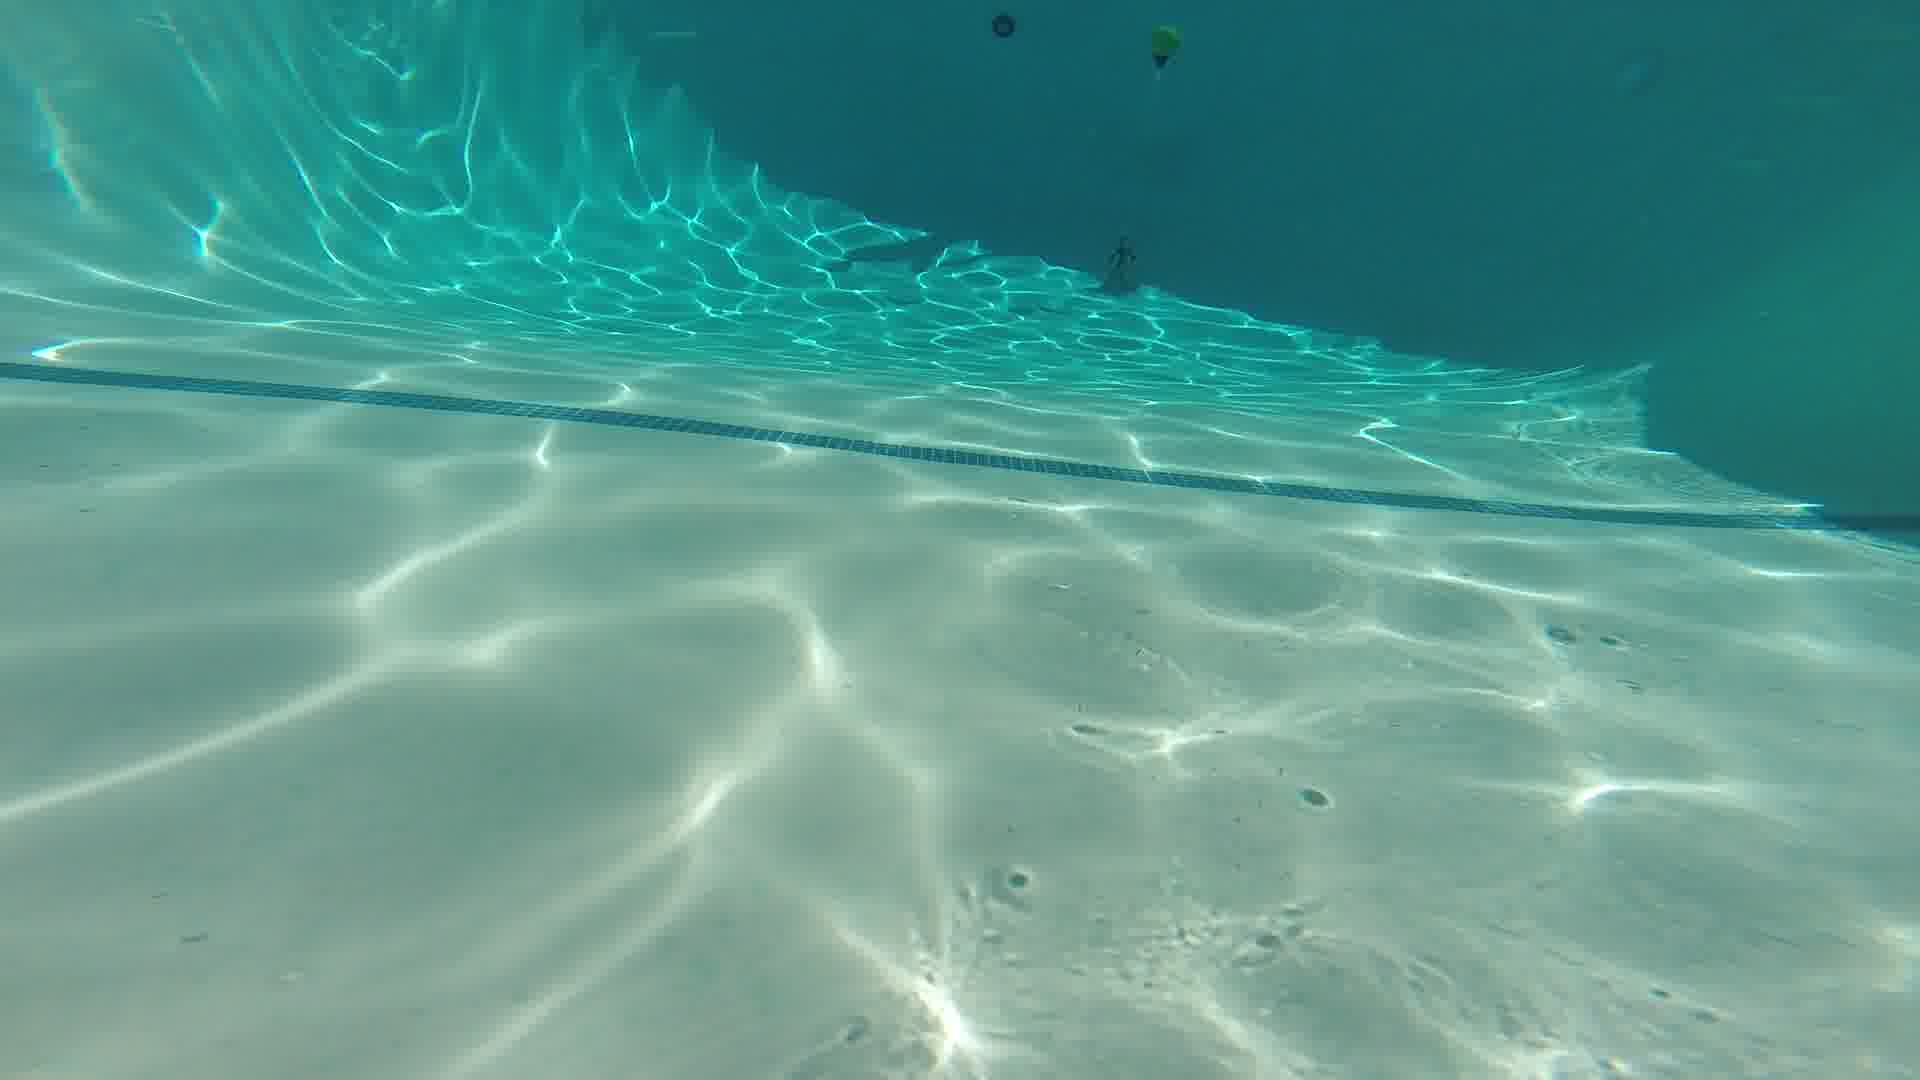yellow_buoy: (1143, 21, 1185, 76)
